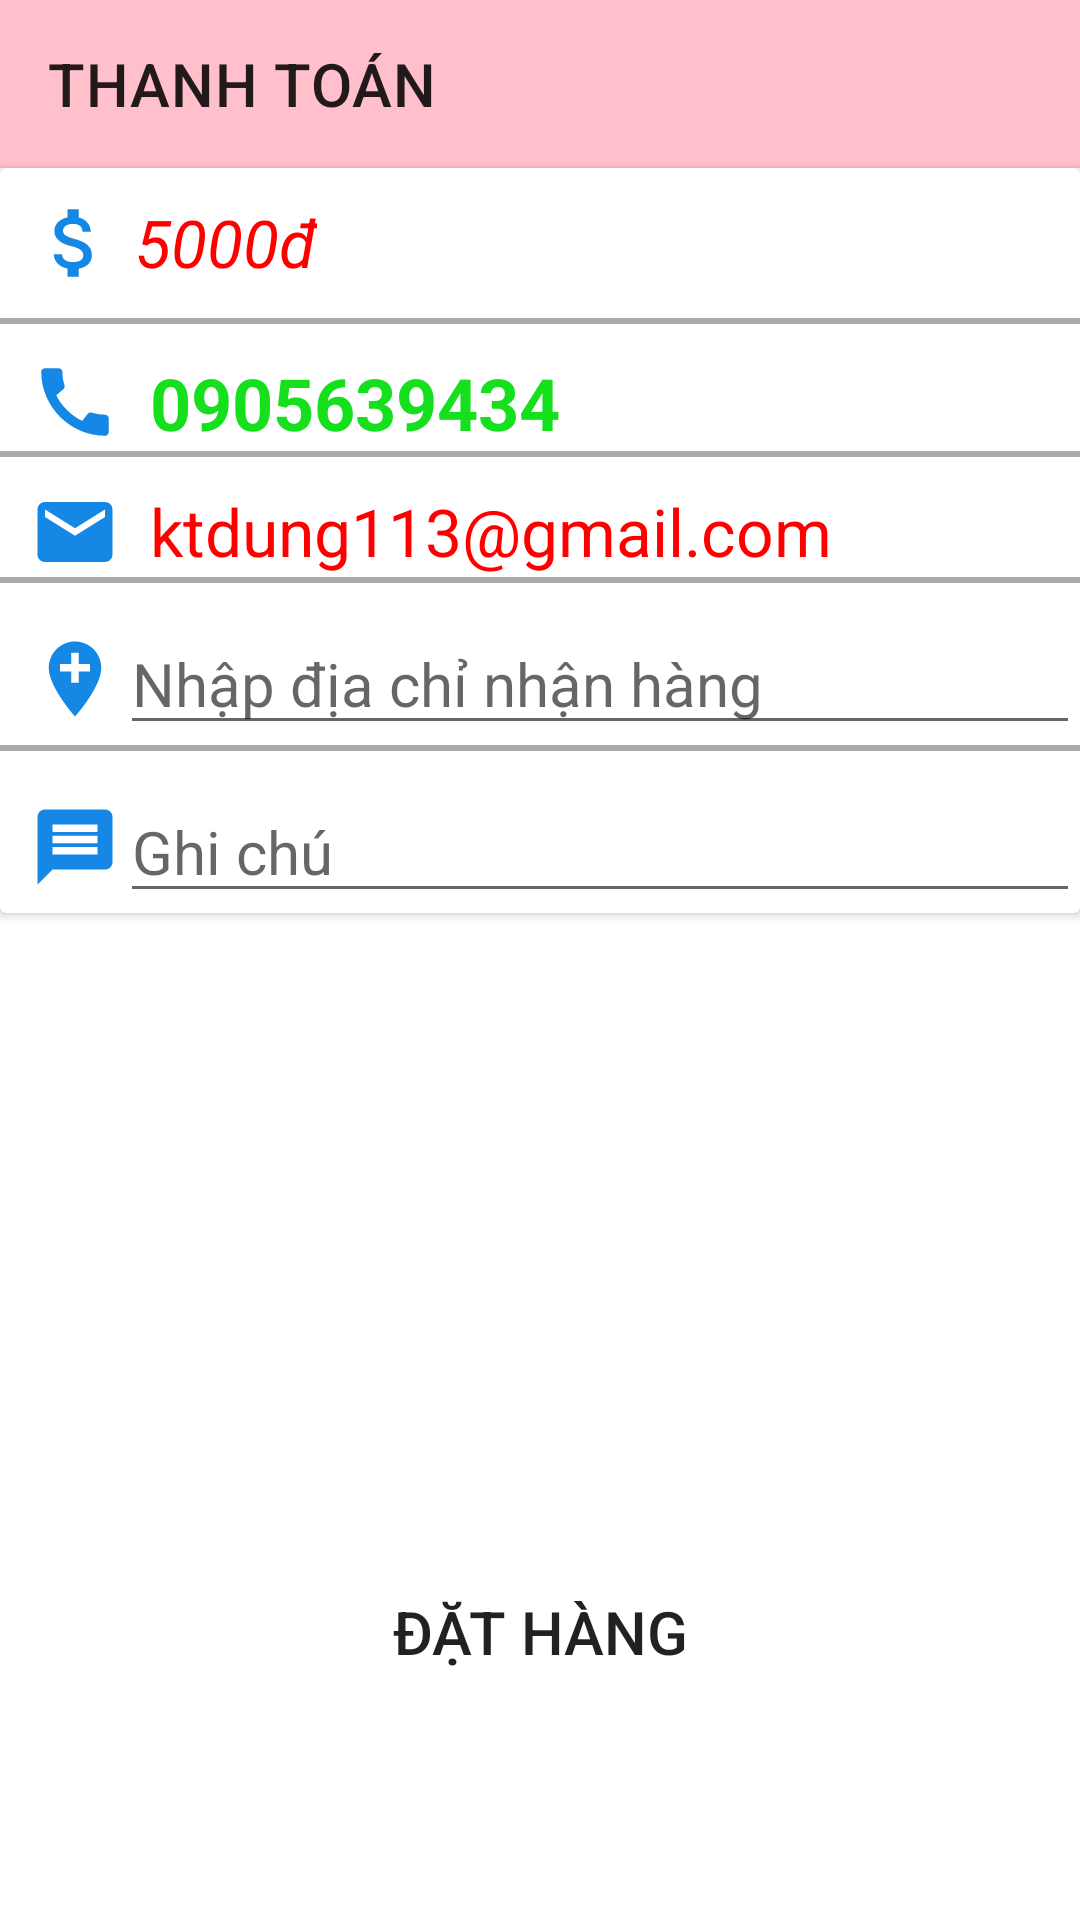

Icon bounding boxes for this 1080x1920 phone screenshot, format bbox=[x1, y1, x2, y2]:
add location: bbox=[48, 641, 102, 716]
attach money: bbox=[53, 209, 92, 277]
call: bbox=[41, 368, 109, 436]
email: bbox=[37, 502, 113, 562]
message: bbox=[37, 809, 113, 885]
